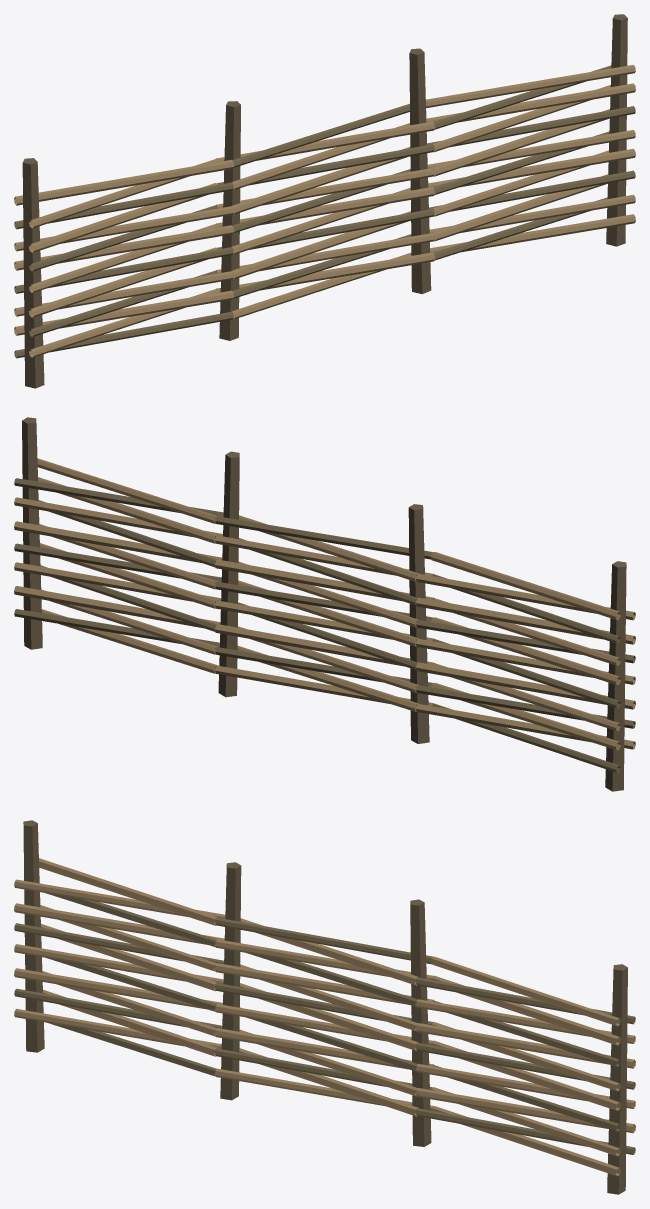
File: ua_wattle_fence.obj
The picture shows the model from 3 angles, top to bottom: view 1: azimuth 30°, elevation 25°; view 2: azimuth 150°, elevation 25°; view 3: azimuth 330°, elevation 25°; orthographic projection.
Parts seen in each view (by area): view 1: ua_wattle_fence; view 2: ua_wattle_fence; view 3: ua_wattle_fence.
Part boxes in pixels (x1=…): ua_wattle_fence: x1=14, y1=14, x2=635, y2=388; ua_wattle_fence: x1=14, y1=417, x2=635, y2=791; ua_wattle_fence: x1=14, y1=820, x2=635, y2=1194.
Size of the model in its own units: 3.33 by 1.26 by 0.1929.
